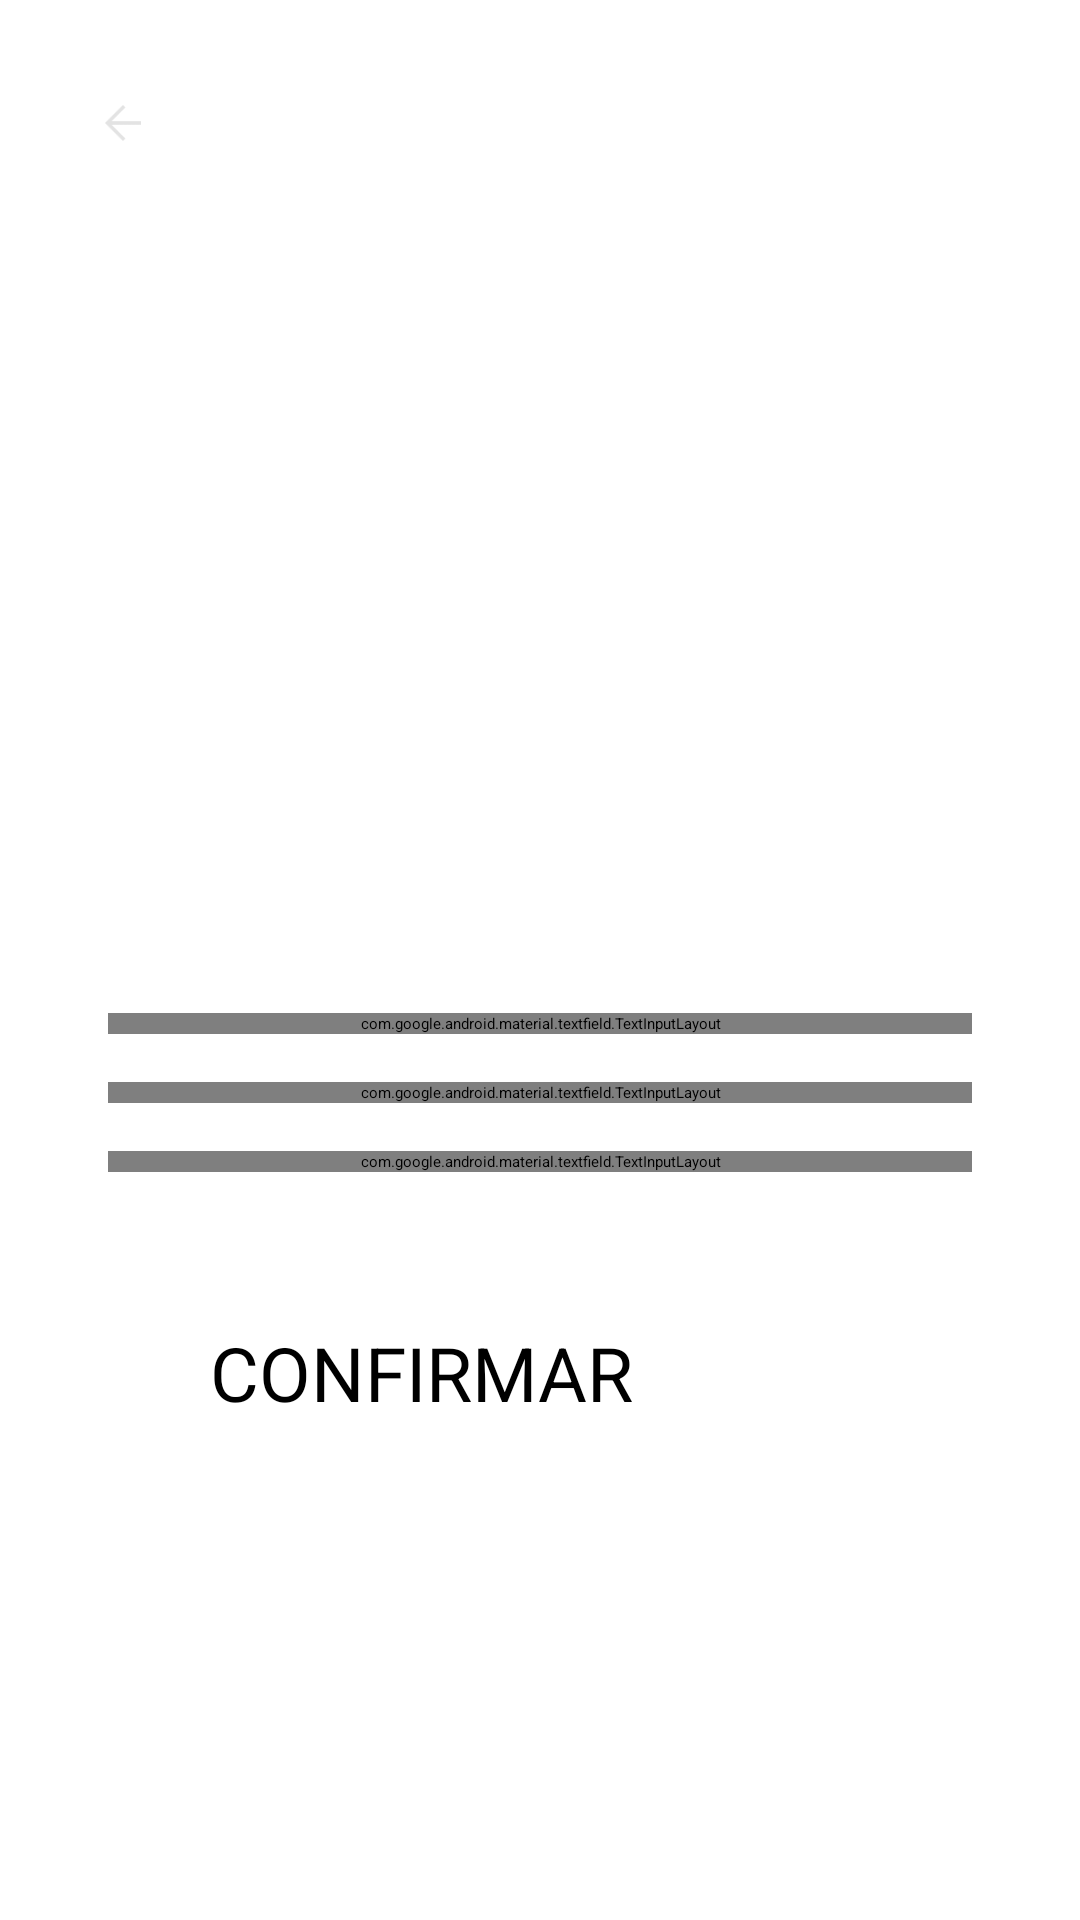

Point at icon controls on the screen. Image size 1080 × 1920, points as (x,y).
Voltar: (123,123)
